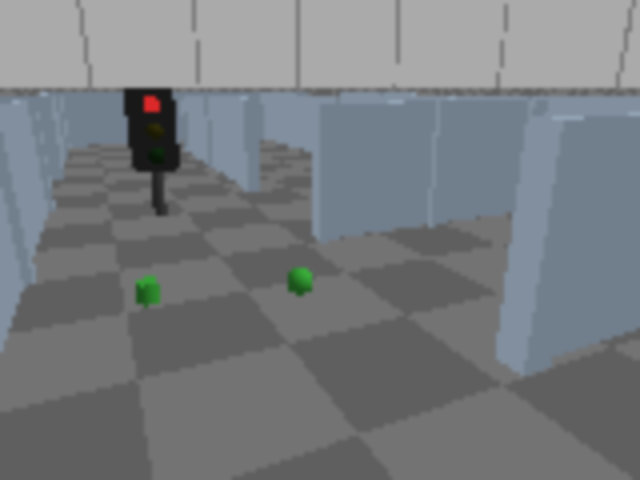puck: (284, 264, 316, 301), (134, 278, 160, 306)
traffic_light: (122, 81, 185, 224)
